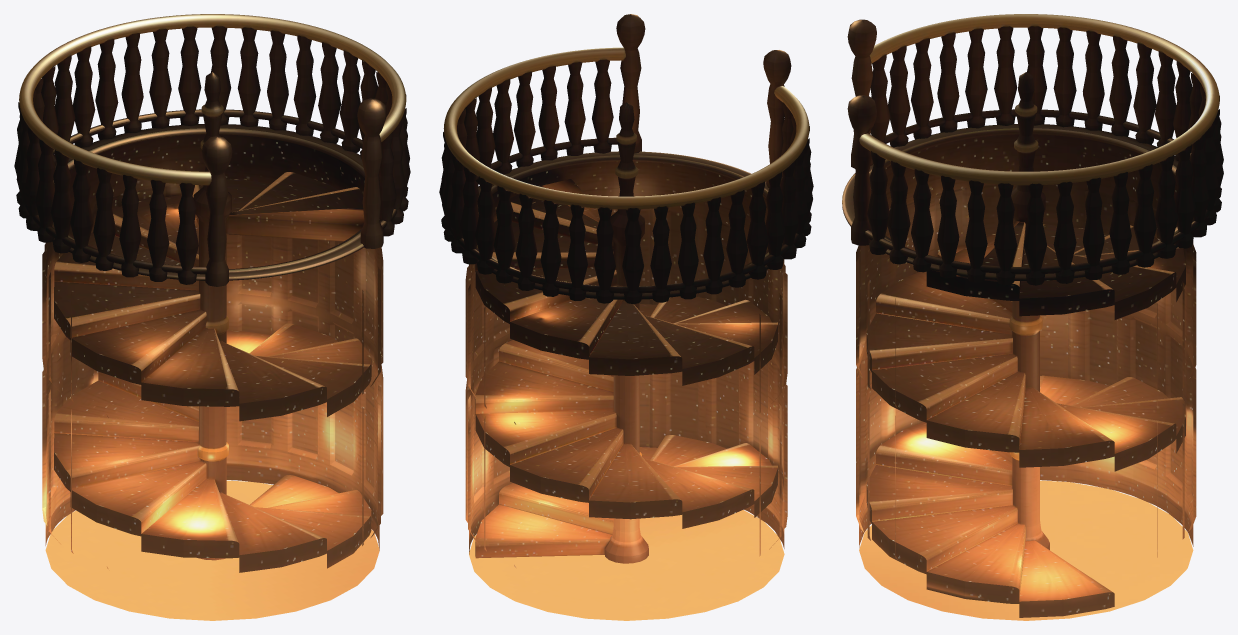
File: stairwell.glb
The picture shows the model from 3 angles, left to right: view 1: azimuth 30°, elevation 25°; view 2: azimuth 150°, elevation 25°; view 3: azimuth 270°, elevation 25°; orthographic projection. The views are drawn at different scales.
Parts seen in each view (by area): view 1: stairwell; view 2: stairwell; view 3: stairwell.
Boxes of the visible parts, box(x1,y1,x2,y2) form: stairwell: box(14, 14, 410, 620); stairwell: box(439, 14, 813, 620); stairwell: box(842, 14, 1223, 620).
Size of the model in its own units: 2.84 by 3.91 by 2.74.
1 material, 1 textured.
